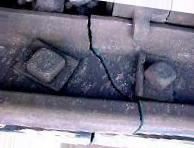tracks_fault: (84, 11, 149, 137)
